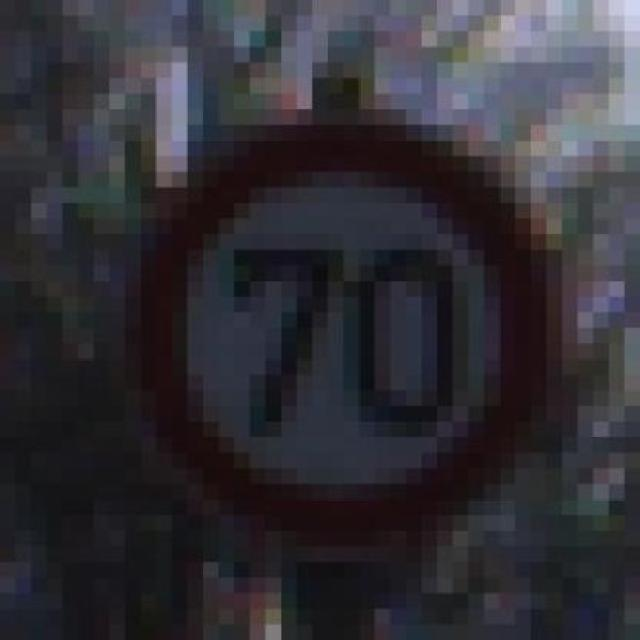forb_speed_over_70: (158, 127, 539, 539)
